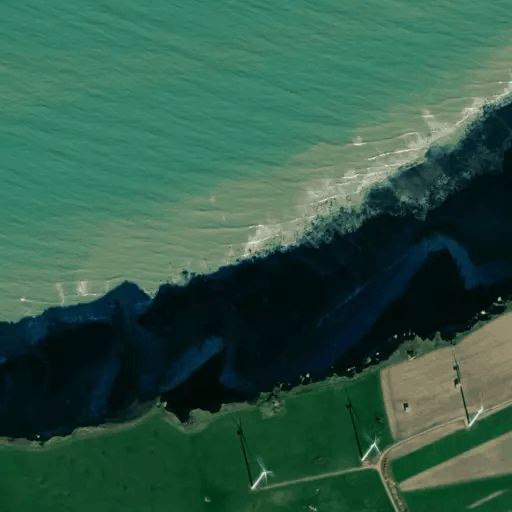wt: (446, 345, 488, 436), (343, 389, 388, 472), (235, 416, 275, 496)
